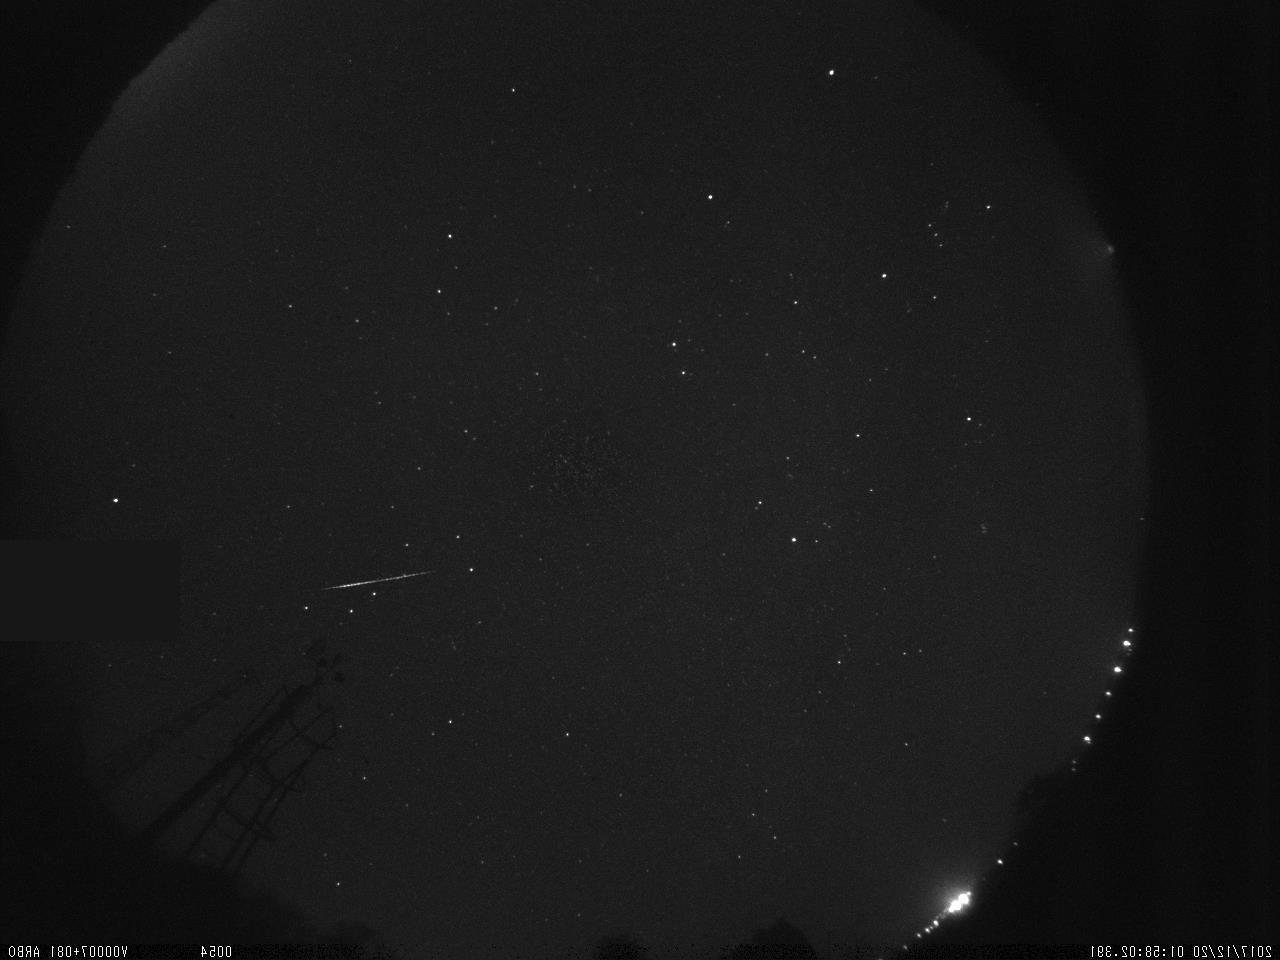meteor: (312, 561, 450, 604)
